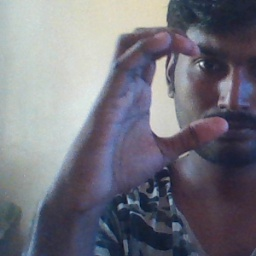C: (102, 23, 235, 158)
